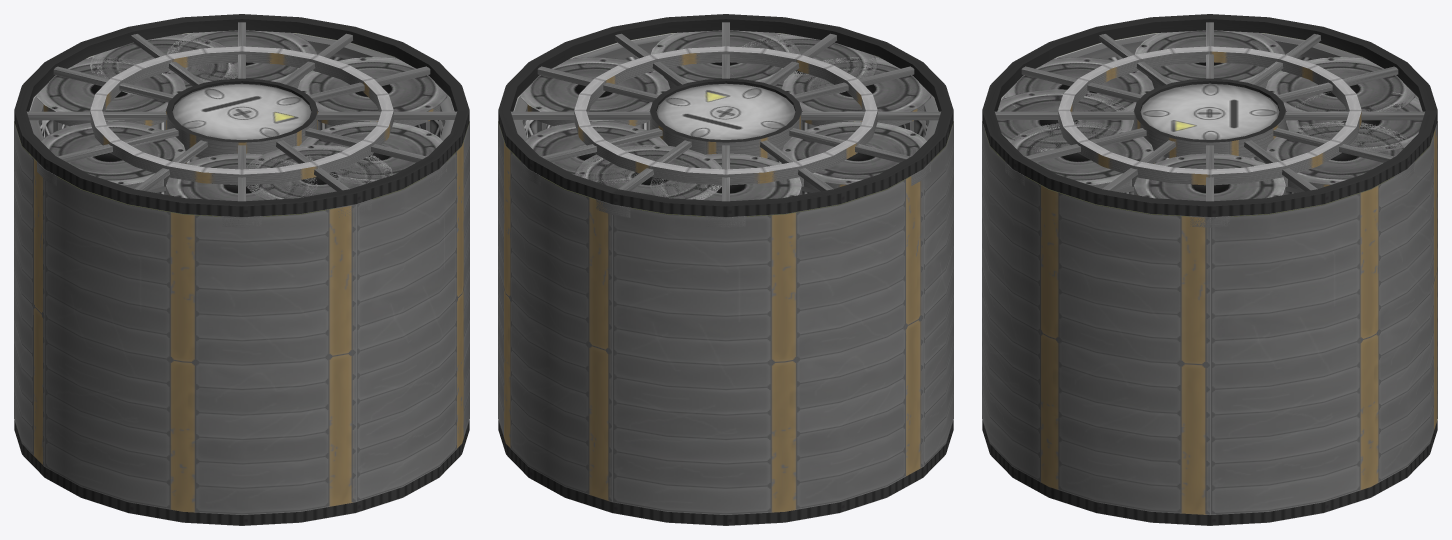
The model's file is ShortInterstageAdapter2.FBX.
3 views of the same model, side by side, from view 1: azimuth 30°, elevation 25°; view 2: azimuth 150°, elevation 25°; view 3: azimuth 270°, elevation 25° (orthographic).
Parts seen in each view (by area): view 1: ShroudTube, Upper Support Ring, SingleEngineFrame001, ThrusterPlate, LowerSupportRing, ThrusterPlate011, ThrusterPlate003, ThrusterPlate012, ThrusterPlate006, ThrusterPlate010, ThrusterPlate005, ThrusterPlate002 (+10 smaller); view 2: ShroudTube, Upper Support Ring, SingleEngineFrame001, ThrusterPlate, LowerSupportRing, ThrusterPlate011, ThrusterPlate005, ThrusterPlate012, ThrusterPlate008, ThrusterPlate006, ThrusterPlate002, ThrusterPlate003 (+10 smaller); view 3: ShroudTube, Upper Support Ring, SingleEngineFrame001, ThrusterPlate, LowerSupportRing, ThrusterPlate003, ThrusterPlate002, ThrusterPlate006, ThrusterPlate010, ThrusterPlate011, ThrusterPlate012, ThrusterPlate005 (+9 smaller).
Boxes of the visible parts, <box> form: ShroudTube: <box>14,33,469,514</box>; Upper Support Ring: <box>14,14,469,217</box>; SingleEngineFrame001: <box>90,46,393,184</box>; ThrusterPlate: <box>166,78,317,158</box>; LowerSupportRing: <box>14,420,469,525</box>; ThrusterPlate011: <box>297,57,447,126</box>; ThrusterPlate003: <box>36,57,185,126</box>; ThrusterPlate012: <box>37,121,185,185</box>; ThrusterPlate006: <box>298,121,446,184</box>; ThrusterPlate010: <box>246,144,392,217</box>; ThrusterPlate005: <box>166,153,317,227</box>; ThrusterPlate002: <box>167,30,316,88</box>; ShroudTube: <box>498,33,953,514</box>; Upper Support Ring: <box>498,14,953,217</box>; SingleEngineFrame001: <box>574,46,877,184</box>; ThrusterPlate: <box>650,78,801,158</box>; LowerSupportRing: <box>498,420,953,525</box>; ThrusterPlate011: <box>520,57,670,126</box>; ThrusterPlate005: <box>782,57,931,126</box>; ThrusterPlate012: <box>781,121,930,191</box>; ThrusterPlate008: <box>575,144,721,217</box>; ThrusterPlate006: <box>651,30,800,88</box>; ThrusterPlate002: <box>521,121,668,185</box>; ThrusterPlate003: <box>650,153,801,227</box>; ShroudTube: <box>982,33,1437,514</box>; Upper Support Ring: <box>982,14,1437,217</box>; SingleEngineFrame001: <box>1058,46,1361,184</box>; ThrusterPlate: <box>1134,78,1285,158</box>; LowerSupportRing: <box>982,420,1437,525</box>; ThrusterPlate003: <box>1265,57,1415,121</box>; ThrusterPlate002: <box>1265,121,1414,191</box>; ThrusterPlate006: <box>1005,121,1154,191</box>; ThrusterPlate010: <box>982,89,1133,151</box>; ThrusterPlate011: <box>1134,153,1285,227</box>; ThrusterPlate012: <box>1135,30,1284,88</box>; ThrusterPlate005: <box>1004,57,1154,120</box>.
Size of what is drawn, in the model's own units: 1.88 by 1.45 by 1.88.
